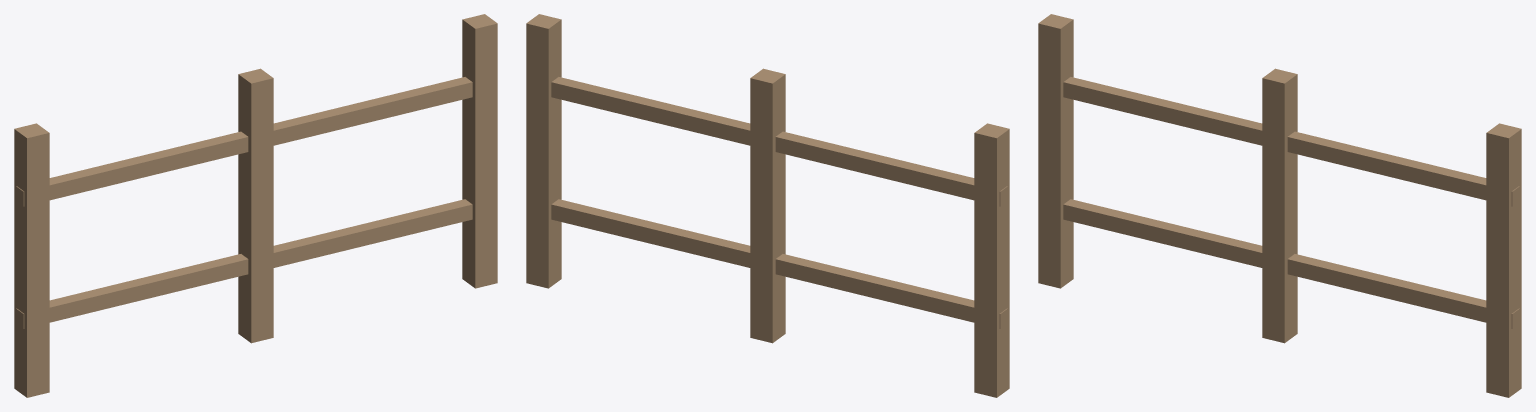
Rendered from PRP_HOUSE_005_wood_fence_segment.glb.
3 views of the same model, side by side, from view 1: azimuth 30°, elevation 25°; view 2: azimuth 150°, elevation 25°; view 3: azimuth 330°, elevation 25° (orthographic).
Visible parts, largest first — view 1: Part_19, Part_25, Part_01, Part_13, Part_07, Part_14, Part_08, Part_02, Part_22, Part_28; view 2: Part_18, Part_24, Part_00, Part_12, Part_06, Part_14, Part_08, Part_02, Part_22, Part_28; view 3: Part_19, Part_25, Part_01, Part_13, Part_07, Part_03, Part_09, Part_15, Part_22, Part_28.
Boxes of the visible parts, x1=… form: Part_19: x1=23, y1=204, x2=472, y2=328; Part_25: x1=23, y1=82, x2=472, y2=206; Part_01: x1=27, y1=133, x2=49, y2=397; Part_13: x1=475, y1=23, x2=497, y2=288; Part_07: x1=251, y1=78, x2=273, y2=343; Part_14: x1=462, y1=19, x2=475, y2=287; Part_08: x1=238, y1=74, x2=251, y2=342; Part_02: x1=14, y1=129, x2=26, y2=397; Part_22: x1=16, y1=199, x2=472, y2=313; Part_28: x1=16, y1=77, x2=472, y2=191; Part_18: x1=551, y1=204, x2=1000, y2=328; Part_24: x1=551, y1=82, x2=1000, y2=206; Part_00: x1=974, y1=133, x2=996, y2=397; Part_12: x1=526, y1=23, x2=548, y2=288; Part_06: x1=750, y1=78, x2=772, y2=343; Part_14: x1=548, y1=19, x2=561, y2=287; Part_08: x1=772, y1=74, x2=785, y2=342; Part_02: x1=997, y1=129, x2=1009, y2=397; Part_22: x1=551, y1=199, x2=1007, y2=313; Part_28: x1=551, y1=77, x2=1007, y2=191; Part_19: x1=1063, y1=204, x2=1512, y2=328; Part_25: x1=1063, y1=82, x2=1512, y2=206; Part_01: x1=1038, y1=23, x2=1060, y2=288; Part_13: x1=1486, y1=133, x2=1508, y2=397; Part_07: x1=1262, y1=78, x2=1284, y2=343; Part_03: x1=1060, y1=19, x2=1073, y2=287; Part_09: x1=1284, y1=74, x2=1297, y2=342; Part_15: x1=1509, y1=129, x2=1521, y2=397; Part_22: x1=1063, y1=199, x2=1519, y2=313; Part_28: x1=1063, y1=77, x2=1519, y2=191.
Size of the model in its own units: 2.95 by 1.55 by 0.14.
